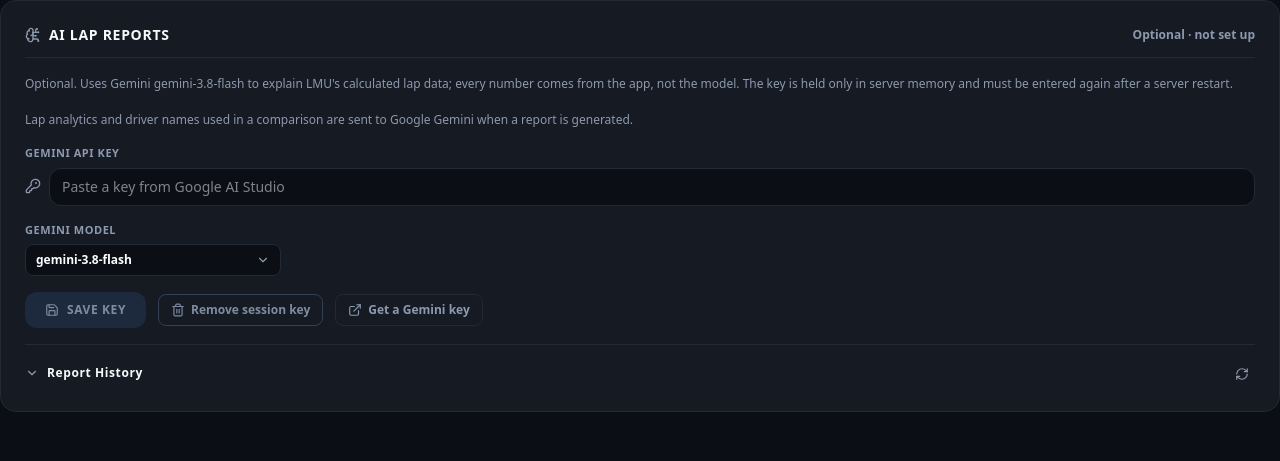
Test: Gemini key handling › removes the key from any other server error and keeps what was typed so it can be fixed
The width and height of the screenshot is (1280, 461).
Expected: the text "Optional · not set up" is shown, [1133,27,1255,43]
Type "AIzaSyD-secret-key-0123456789" into the password field labelled "Gemini API key".
click(652, 186); type("AIzaSyD-secret-key-0123456789")  # box [49,168,1255,206]
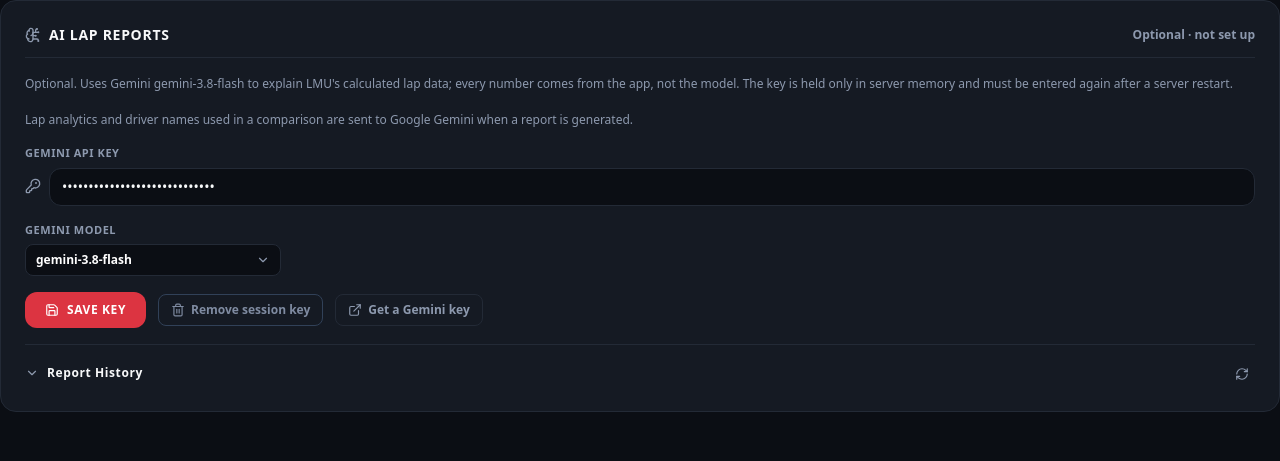
Click the button "Save Key".
click(86, 310)  # box [25,292,146,328]
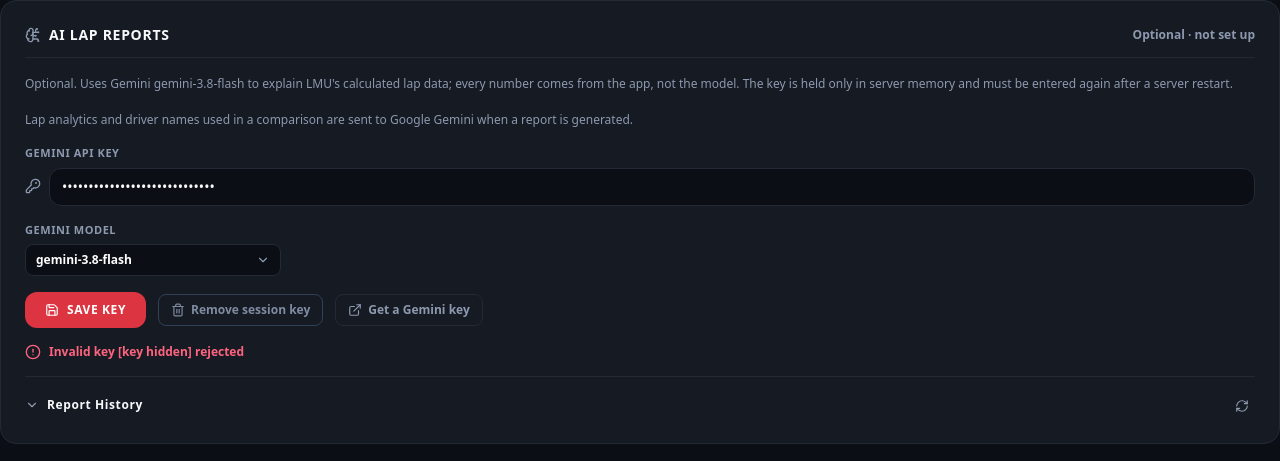
Now the message reads "Invalid key [key hidden] rejected", box [49,343,244,360]
